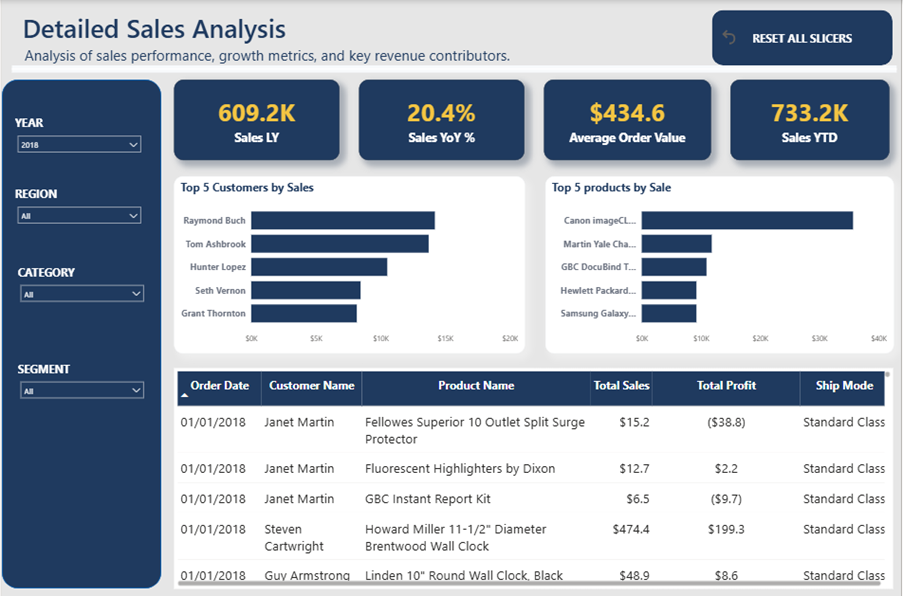

The page's visual inventory and layout, read from the dashboard file:
{"tool":"powerbi","page":{"name":"Sales Analysis Page","canvas":[1500,1000],"ordinal":1},"visuals":[{"type":"shape","box":[0,132.9,265.8,849.7],"z":0},{"type":"card","fields":{"Values":["Meaures_Table.Sales LY"]},"box":[287.2,132.6,276.1,134.8],"z":1000},{"type":"textbox","box":[0,0,1499.2,121.3],"z":2000},{"type":"card","fields":{"Values":["Meaures_Table.Sales YoY %"]},"box":[595.7,132.6,276.1,134.8],"z":3000},{"type":"card","fields":{"Values":["Meaures_Table.Sales YTD"]},"box":[1215.1,132.6,265.1,134.8],"z":4000},{"type":"card","fields":{"Values":["Meaures_Table.Average Order Value"]},"box":[904.3,132.6,278.4,134.8],"z":5000},{"type":"slicer","title":"YEAR","fields":{"Values":["Dim_Date.Year"]},"box":[16.6,192.2,225.5,118.7],"z":6000},{"type":"slicer","title":"CATEGORY","fields":{"Values":["Dim_Product.Category"]},"box":[21.4,441.5,225.5,118.7],"z":7000},{"type":"slicer","title":"SEGMENT","fields":{"Values":["Dim_Date.Year"]},"box":[21.4,602.8,225.5,118.7],"z":8000},{"type":"slicer","title":"REGION","fields":{"Values":["Dim_customer.Region"]},"box":[16.6,310.9,225.5,118.7],"z":9000},{"type":"shape","box":[1184.3,16.6,301.4,92.6],"z":10000},{"type":"shape","box":[311.5,501.5,300.4,112.7],"z":11000},{"type":"barChart","title":"Top  5 Customers by Sales","fields":{"Y":["Meaures_Table.Total Sales"],"Category":["Dim_customer.Customer Name"]},"box":[287.2,293.8,585.4,296],"z":12000},{"type":"barChart","title":"Top 5 products by Sale","fields":{"Y":["Meaures_Table.Total Sales"],"Category":["Dim_Product.Product Name"]},"box":[905.8,293.8,581,296],"z":13000},{"type":"tableEx","fields":{"Values":["Fact_Sales.Order Date","Dim_customer.Customer Name","Dim_Product.Product Name","Meaures_Table.Total Sales","Meaures_Table.Total Profit","Dim_ship.Ship Mode"]},"box":[287.2,614.2,1199.6,368.9],"z":14000},{"type":"shape","box":[16.6,109.2,1476.3,11.9],"z":15000},{"type":"actionButton","box":[1196.2,45.1,99.7,33.2],"z":16000}]}

Visuals, with their boxes in screenshot pixels (x1, y1, x2, y2), scaled from the page's 1500x1000 canvas onto the 903x596 screenshot:
shape: bbox=[0, 79, 160, 586]
card - Meaures_Table.Sales LY: bbox=[173, 79, 339, 159]
textbox: bbox=[0, 0, 902, 72]
card - Meaures_Table.Sales YoY %: bbox=[359, 79, 525, 159]
card - Meaures_Table.Sales YTD: bbox=[731, 79, 891, 159]
card - Meaures_Table.Average Order Value: bbox=[544, 79, 712, 159]
"YEAR" slicer: bbox=[10, 115, 146, 185]
"CATEGORY" slicer: bbox=[13, 263, 149, 334]
"SEGMENT" slicer: bbox=[13, 359, 149, 430]
"REGION" slicer: bbox=[10, 185, 146, 256]
shape: bbox=[713, 10, 894, 65]
shape: bbox=[188, 299, 368, 366]
"Top  5 Customers by Sales" barChart: bbox=[173, 175, 525, 352]
"Top 5 products by Sale" barChart: bbox=[545, 175, 895, 352]
tableEx - Fact_Sales.Order Date x Dim_customer.Customer Name: bbox=[173, 366, 895, 586]
shape: bbox=[10, 65, 899, 72]
actionButton: bbox=[720, 27, 780, 47]
